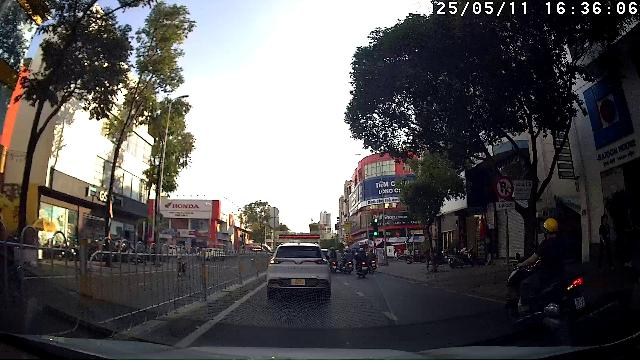124b-cam-oto-quay-dau-xe: (494, 175, 514, 199)
